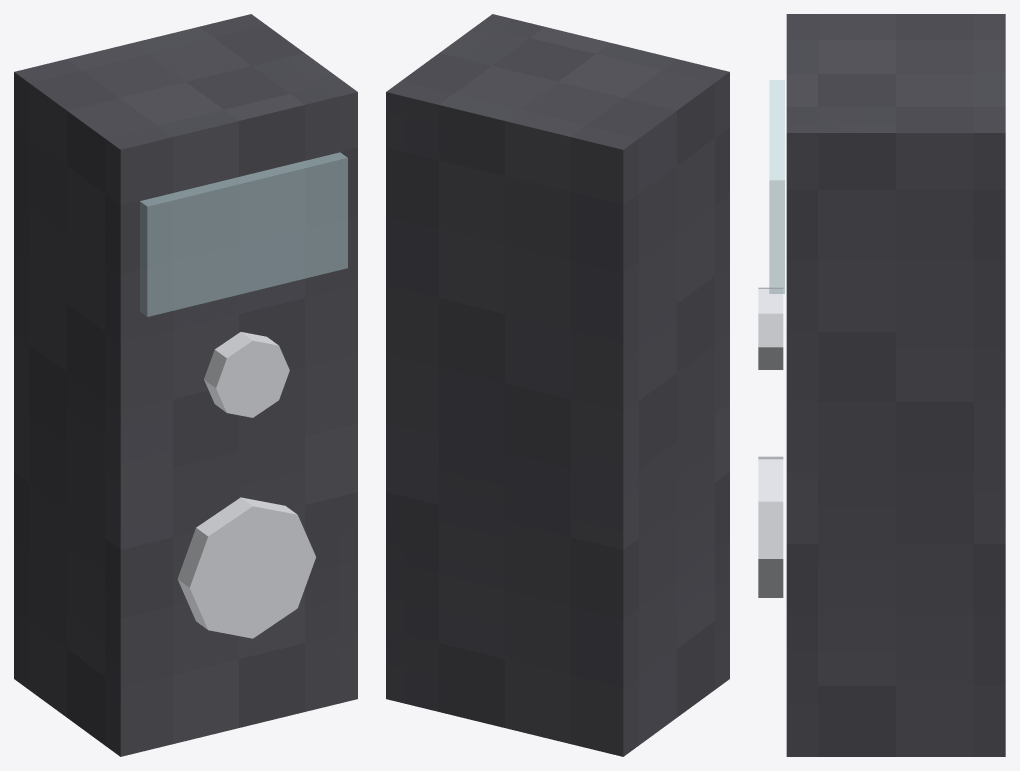
Rendered from retro-arcade-and-mall-1989-hi-fi-tower-afe590fc__15566.glb.
The picture shows the model from 3 angles, left to right: view 1: azimuth 30°, elevation 25°; view 2: azimuth 150°, elevation 25°; view 3: azimuth 270°, elevation 25°; orthographic projection. The views are drawn at different scales.
Visible parts, largest first — view 1: hi-fi-tower; view 2: hi-fi-tower; view 3: hi-fi-tower.
Boxes of the visible parts, <box> form: hi-fi-tower: <box>14,14,357,756</box>; hi-fi-tower: <box>386,14,729,756</box>; hi-fi-tower: <box>758,14,1005,756</box>.
Bounding box in the file's own units: 0.45 × 1.1 × 0.395.
Materials: 3 (1 with a texture image).
